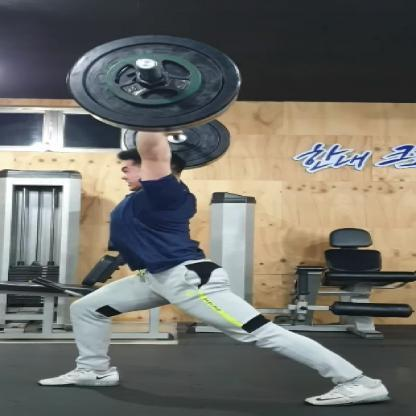barbell: (65, 33, 242, 171)
